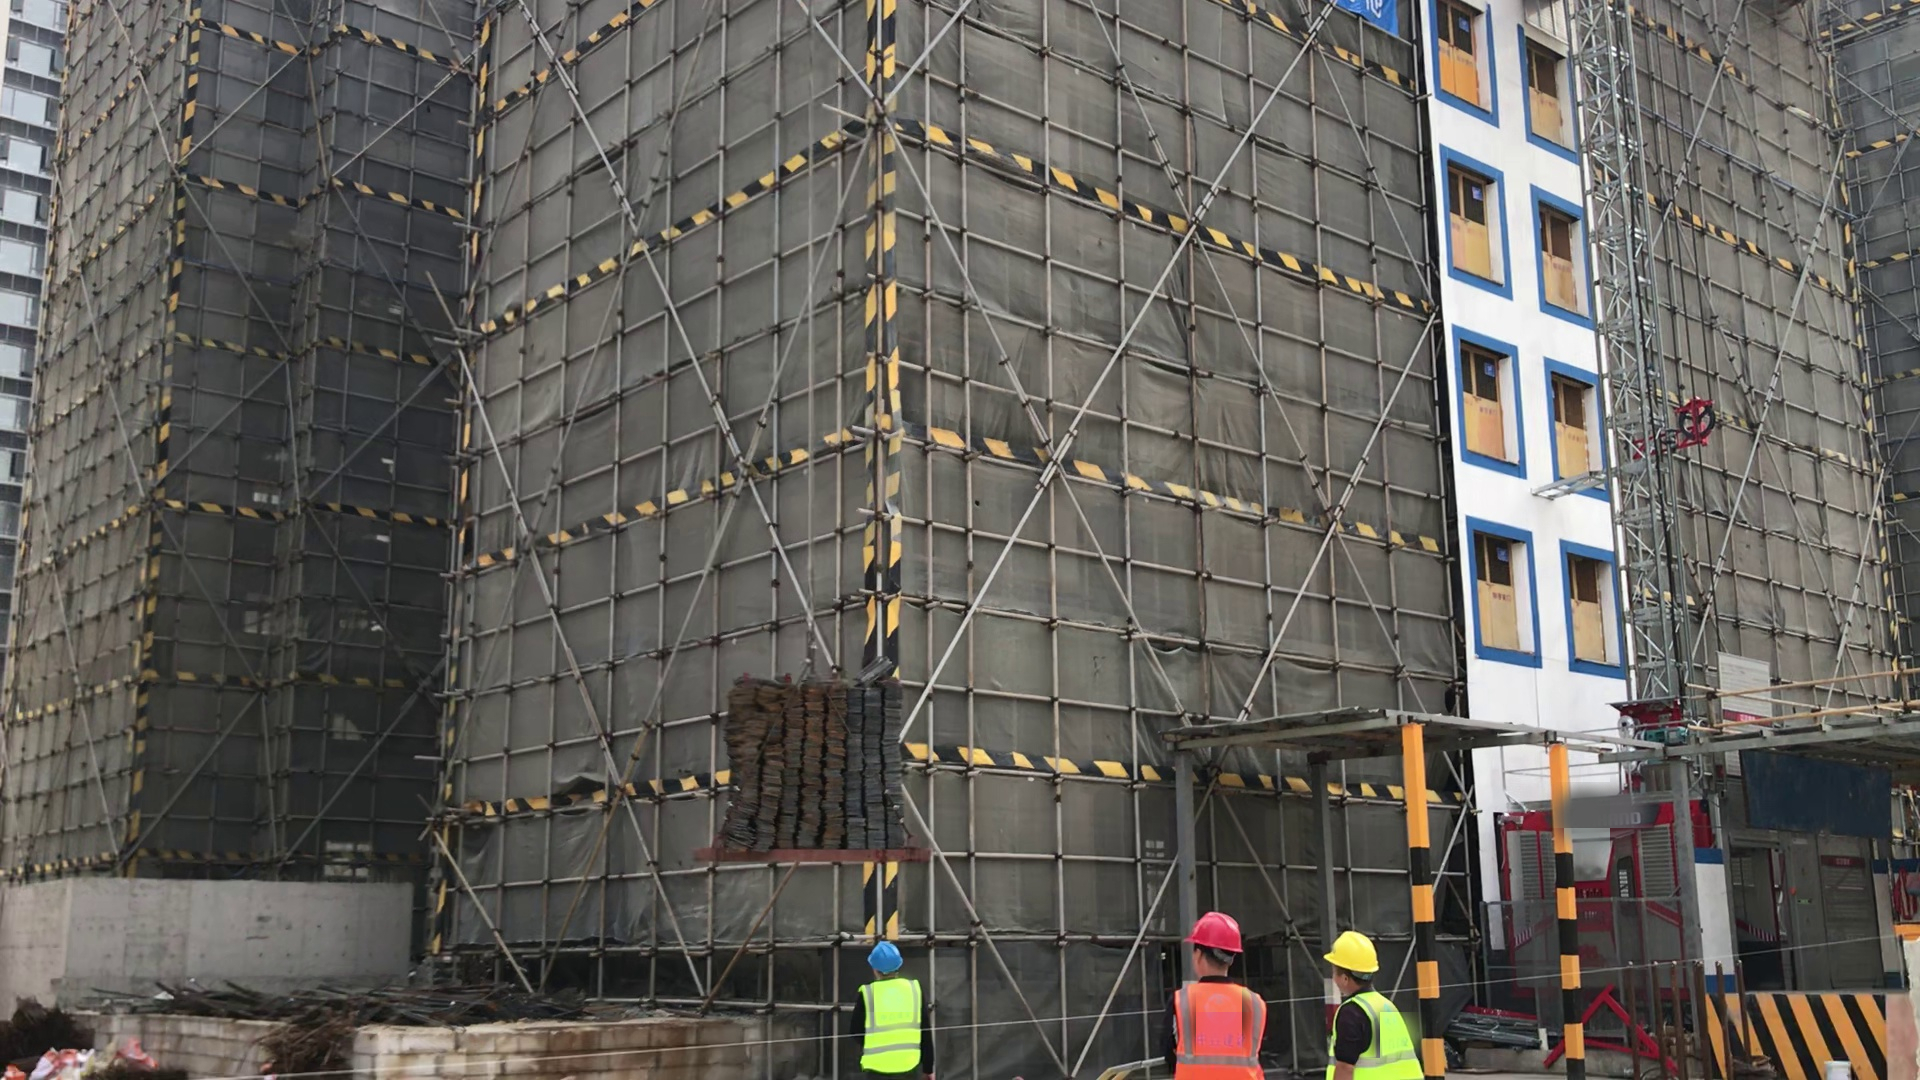helmet: (1326, 929, 1391, 986), (1189, 901, 1249, 961), (863, 940, 914, 973)
person: (1164, 901, 1269, 1080), (1315, 930, 1438, 1080), (850, 941, 947, 1080)
vest: (1169, 976, 1265, 1080), (1325, 992, 1426, 1080), (856, 976, 934, 1073)
